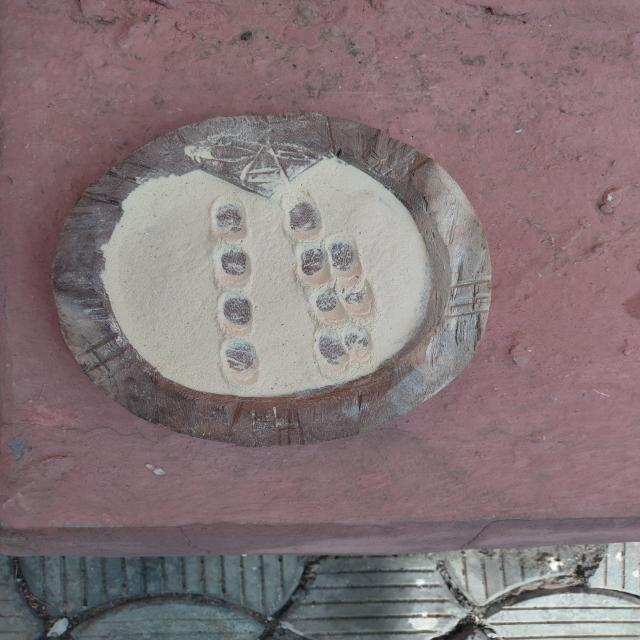double: (305, 323, 382, 378), (292, 230, 364, 284), (305, 276, 379, 326)
single: (217, 337, 264, 392), (276, 189, 326, 239), (204, 193, 253, 240), (208, 241, 258, 287), (213, 288, 258, 336)
